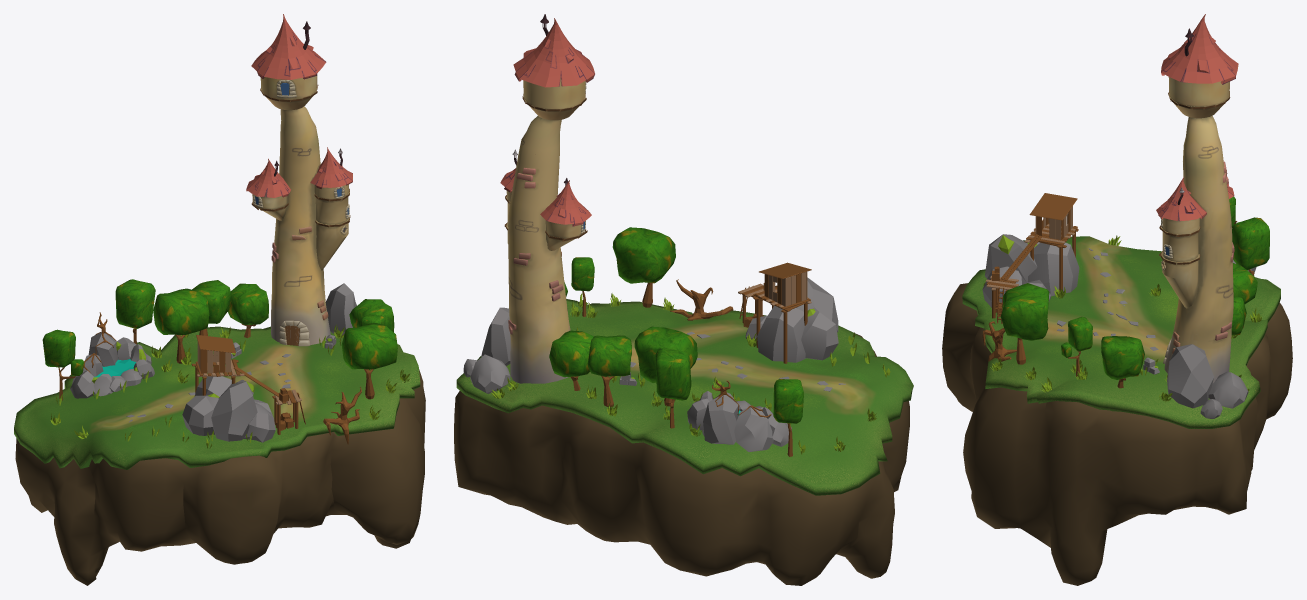
The model's file is uploads_files_2521769_fantasy+castle+island.fbx.
3 renders of one model, left to right at view 1: azimuth 30°, elevation 25°; view 2: azimuth 150°, elevation 25°; view 3: azimuth 270°, elevation 25°, orthographic. The views are drawn at different scales.
Visible parts, largest first — view 1: Cube.060, Cube.005, Cylinder, rock.009, Cylinder.004, Vert.009, Vert.002, Cylinder.003, Roundcube.004, Vert.005, Cylinder.001, rock (+9 smaller); view 2: Cube.060, Cube.005, Cylinder, rock.009, Cylinder.004, Vert.009, Vert.002, Cylinder.001, Roundcube.004, Vert.004, Vert.005, rock.015 (+9 smaller); view 3: Cube.060, Cube.005, Cylinder, rock.009, Cylinder.004, Cylinder.003, rock, Vert.009, Cylinder.001, Roundcube.004, Vert.007, Cylinder.005 (+7 smaller).
Part boxes in pixels (x1,y1,x2,y2): Cube.060: (15,369,425,585); Cube.005: (14,326,420,469); Cylinder: (271,106,330,345); rock.009: (182,376,275,442); Cylinder.004: (251,14,326,79); Vert.009: (341,323,397,369); Vert.002: (153,288,209,334); Cylinder.003: (314,184,349,270); Roundcube.004: (115,279,155,329); Vert.005: (228,283,268,325); Cylinder.001: (260,74,317,110); rock: (325,283,356,335); Cube.060: (454,333,909,585); Cube.005: (456,299,913,495); Cylinder: (508,116,570,383); rock.009: (745,277,838,362); Cylinder.004: (513,18,594,87); Vert.009: (612,227,675,283); Vert.002: (634,326,697,382); Cylinder.001: (523,76,585,120); Roundcube.004: (655,347,691,400); Vert.004: (587,335,631,376); Vert.005: (549,330,593,377); rock.015: (702,395,738,444); Cube.060: (942,283,1292,585); Cube.005: (962,236,1280,428); Cylinder: (1164,115,1233,383); rock.009: (982,234,1079,307); Cylinder.004: (1161,14,1238,84); Cylinder.003: (1161,217,1199,308); rock: (1167,344,1213,408); Vert.009: (1000,283,1049,340); Cylinder.001: (1168,77,1229,118); Roundcube.004: (1232,217,1269,269); Vert.007: (1101,336,1144,379); Cylinder.005: (1156,177,1206,221).
Size of the model in its own units: 1162 by 1561 by 914.
